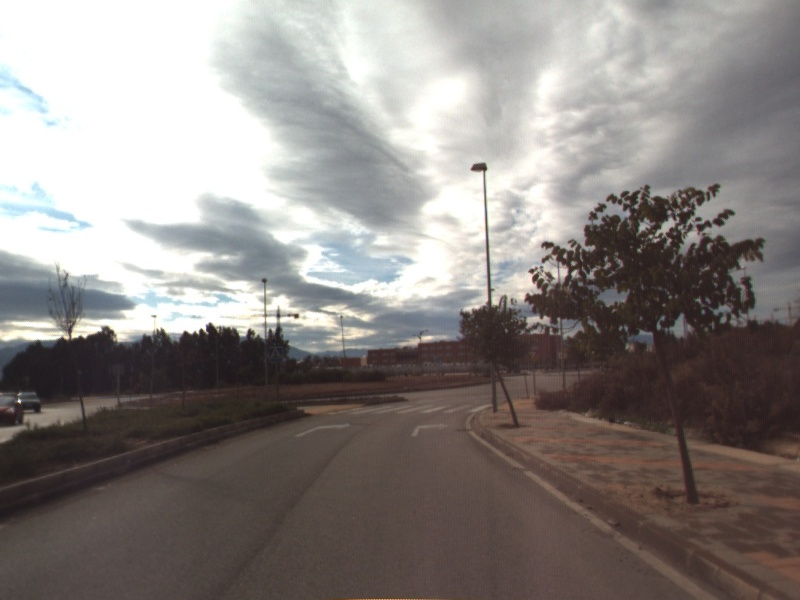RIGHT: (293, 420, 354, 439), (409, 419, 450, 438)
